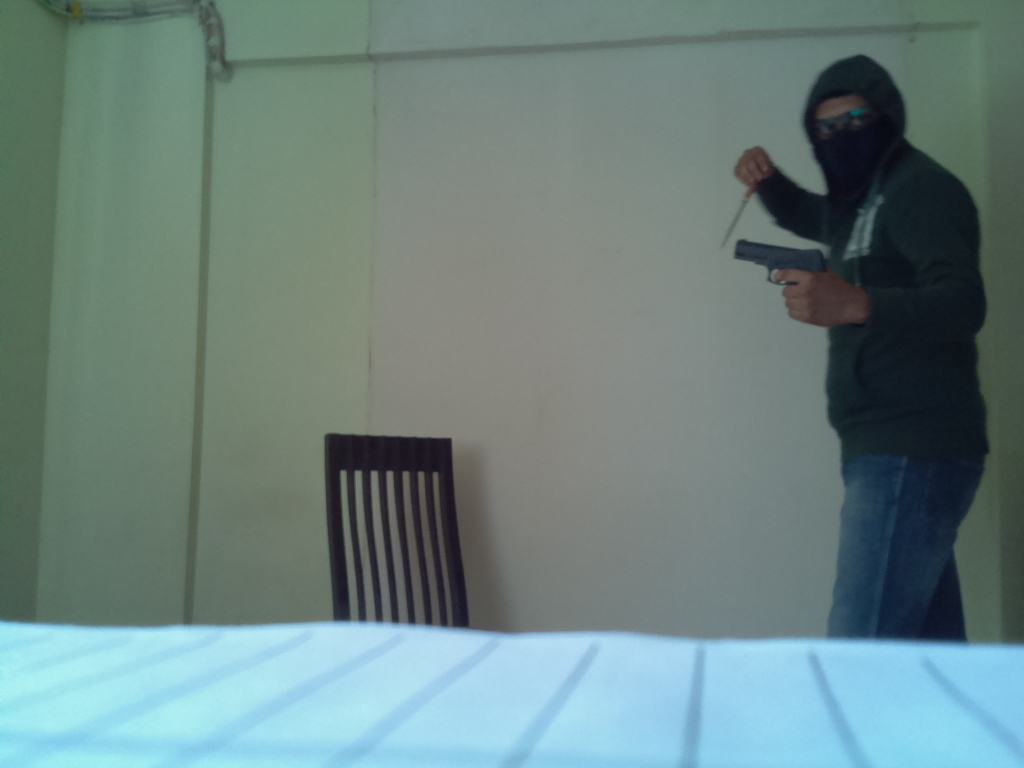gun: (732, 237, 839, 295)
knife: (709, 168, 765, 253)
